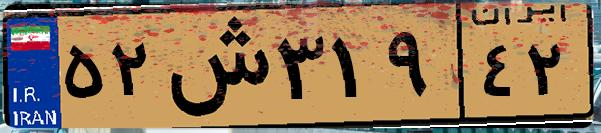1: (330, 28, 385, 110)
2: (525, 38, 570, 115), (110, 28, 158, 98)
3: (270, 28, 330, 110)
4: (475, 38, 525, 113)
5: (57, 26, 110, 100)
9: (385, 28, 445, 110)
ش: (158, 12, 270, 120)
